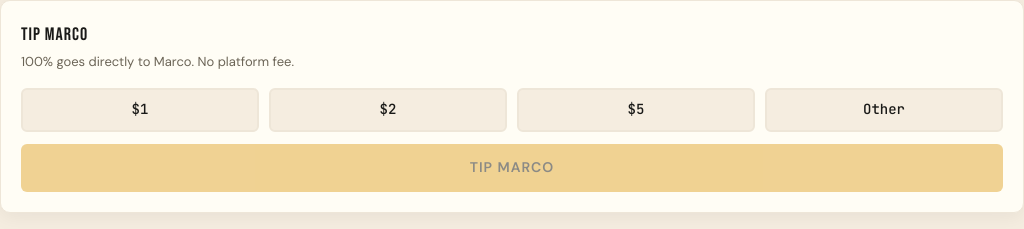
it: TipPanel › selecting an amount updates the CTA button text
Check: the button "TIP MARCO" is shown, box [21,144,1003,192]
# Select $2 preset
Click the button "$2" at {"x": 388, "y": 110}, box [269,88,507,132]
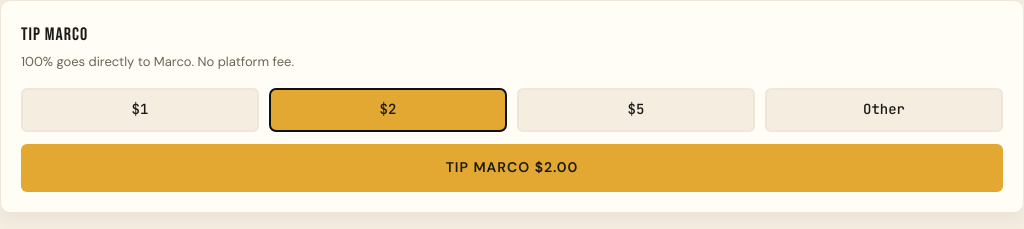
Check: the button "TIP MARCO $2.00" is shown, box [21,144,1003,192]
